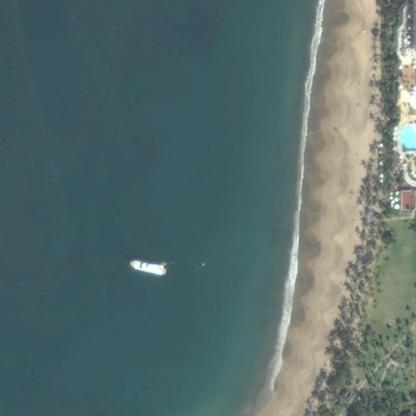ship: (124, 251, 172, 280)
